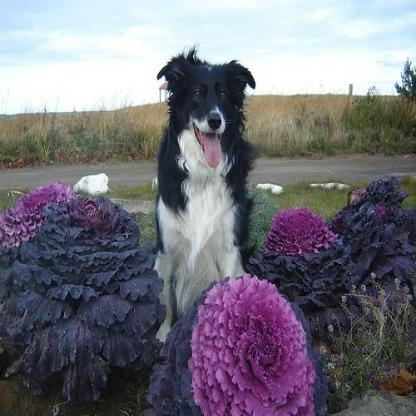Border_collie: (150, 42, 258, 343)
